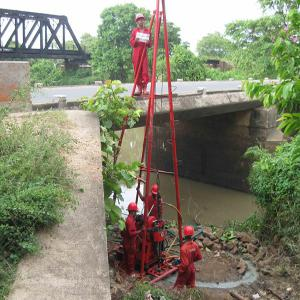red: (184, 225, 195, 241), (128, 203, 139, 218), (150, 183, 160, 197), (136, 14, 146, 27)
